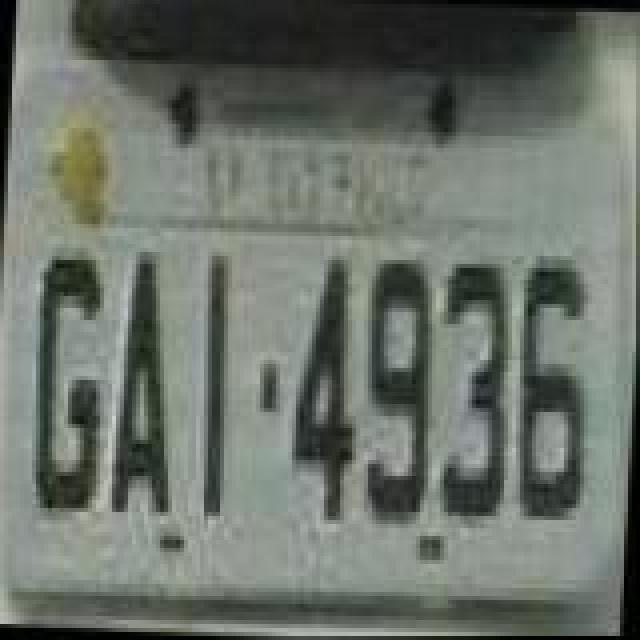1: (190, 250, 238, 522)
3: (436, 260, 520, 528)
4: (288, 258, 364, 522)
6: (512, 260, 596, 524)
9: (356, 260, 440, 528)
A: (112, 246, 188, 522)
G: (28, 250, 112, 518)
